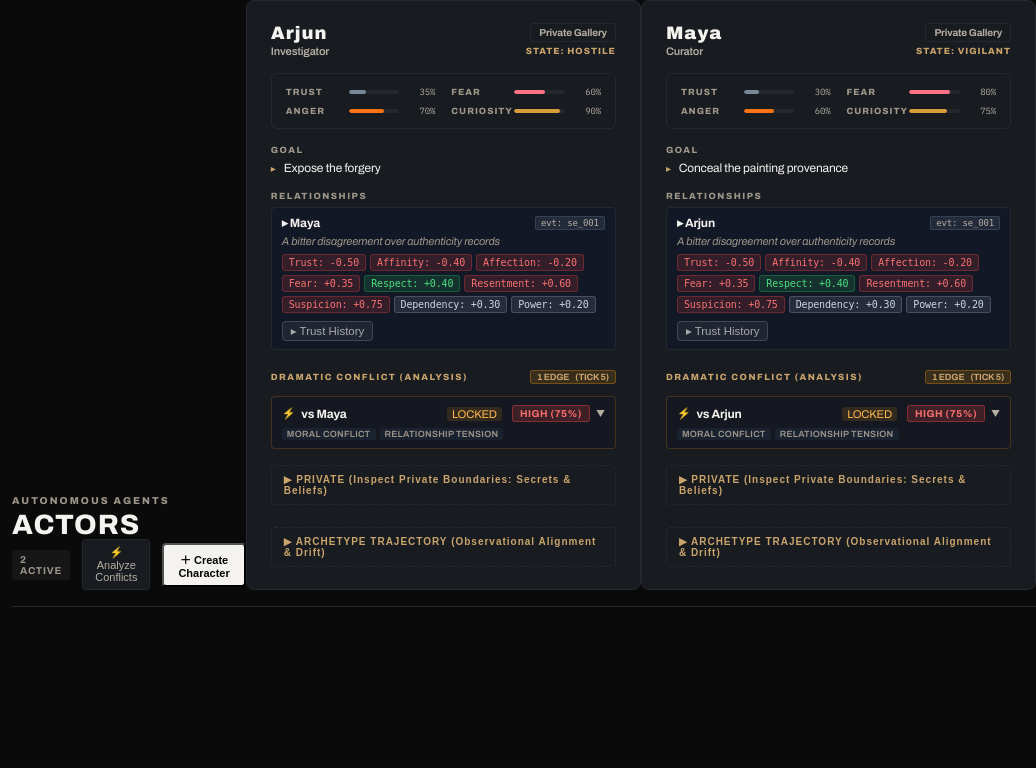
Scenario: Phase D: Conflict Engine & Multidimensional Relationships Frontend › renders locked indicator, user-authored evidence badge, and derived_at_tick
This screenshot has width=1036, height=768.
Expected: the text "(TICK 5)" below "Expose the forgery" is shown, [575,372,609,382]
Expected: the text "LOCKED" below "Expose the forgery" is shown, [452,408,497,420]
# Expand evidence
Click the text "vs Maya": (324,414) [301,407,347,421]
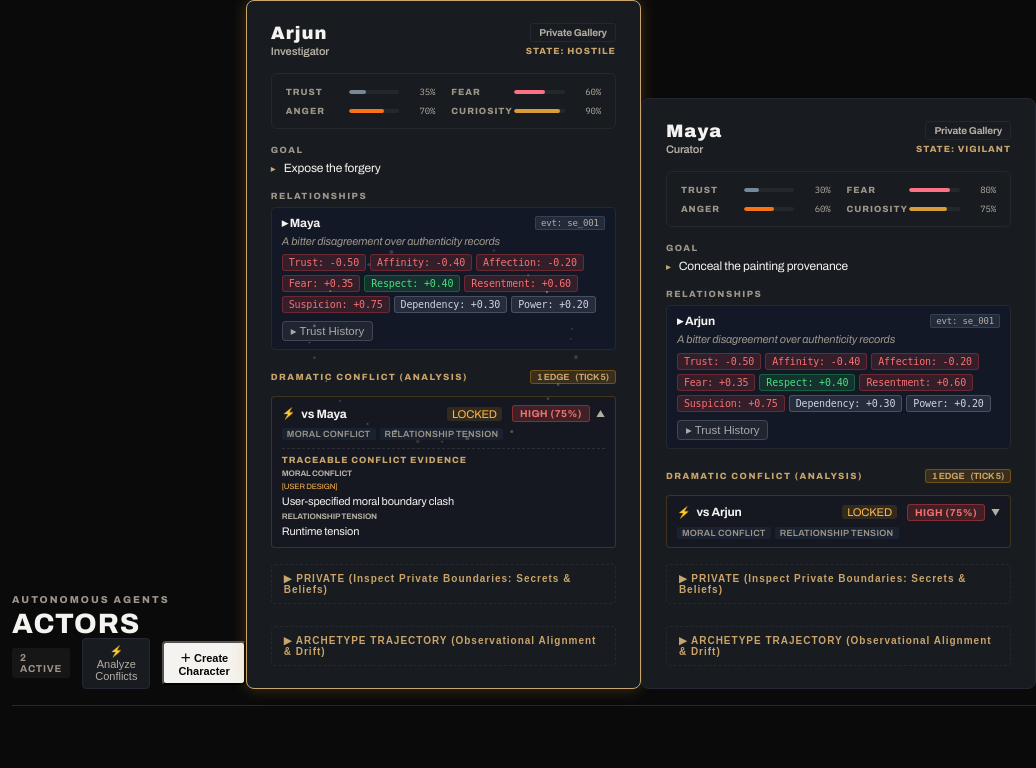
Expected: the text "[USER DESIGN]" is shown, [282,482,337,491]
Expected: the text "User-specified moral boundary clash" is shown, [282,495,454,507]
